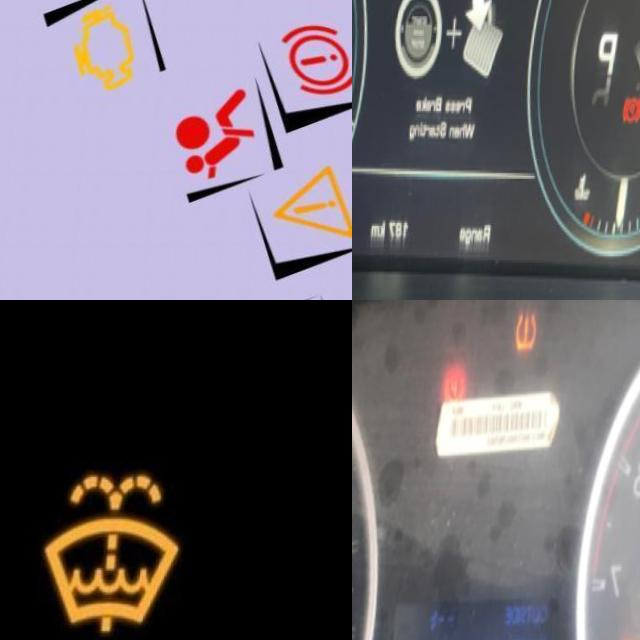High Engine Coolant Temperature: (579, 169, 601, 207)
Washer Fluid: (44, 473, 191, 634)
